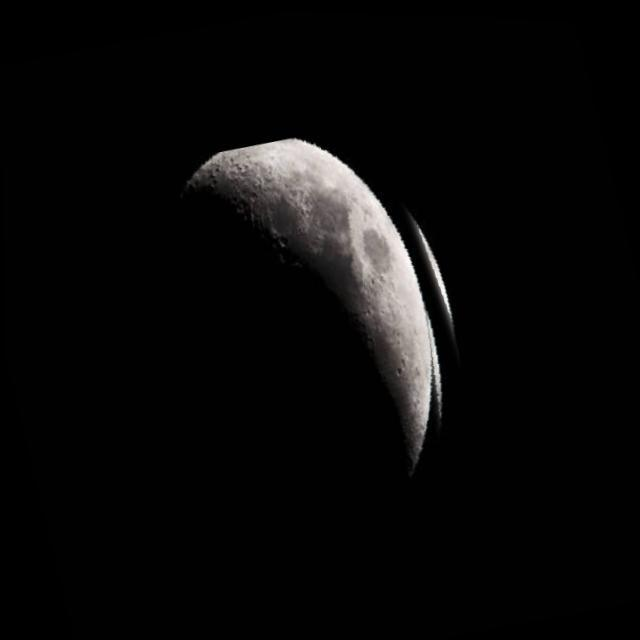moon: (84, 100, 522, 604)
